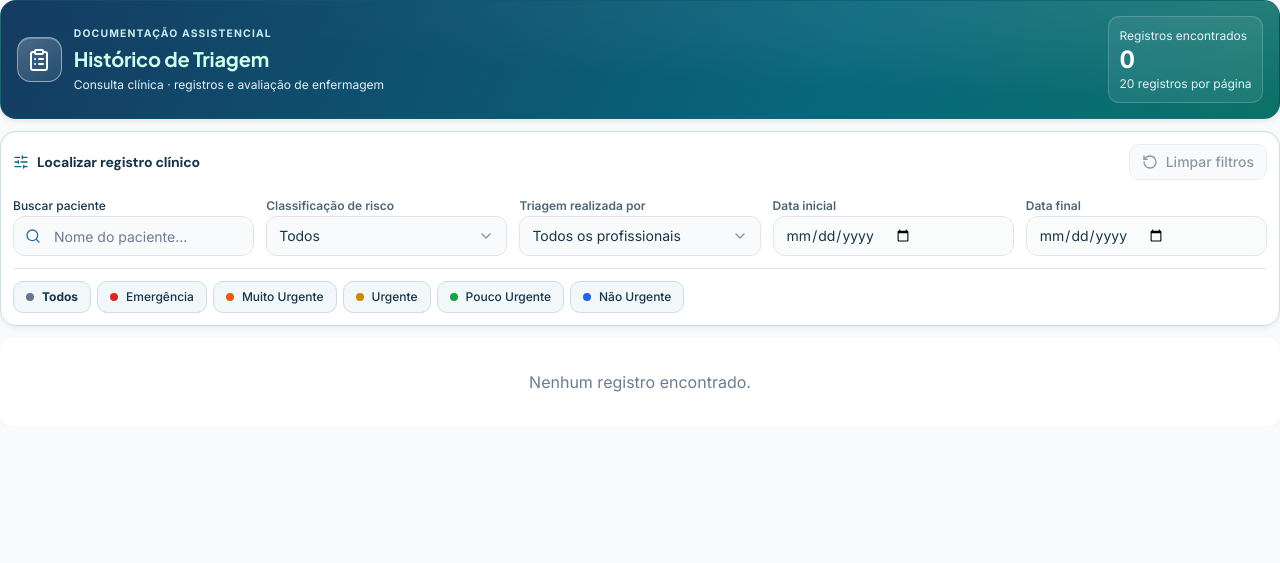
Test: Histórico de Triagem: carregamento, erro e vazio › encontra nomes independentemente de acentos e espaços extras
Check: the text "Nenhum registro encontrado." is shown, box [529,372,751,392]
Type "  joao da silva  " into the field with placeholder "Nome do paciente..." at {"x": 134, "y": 236}, box [13,216,254,256]
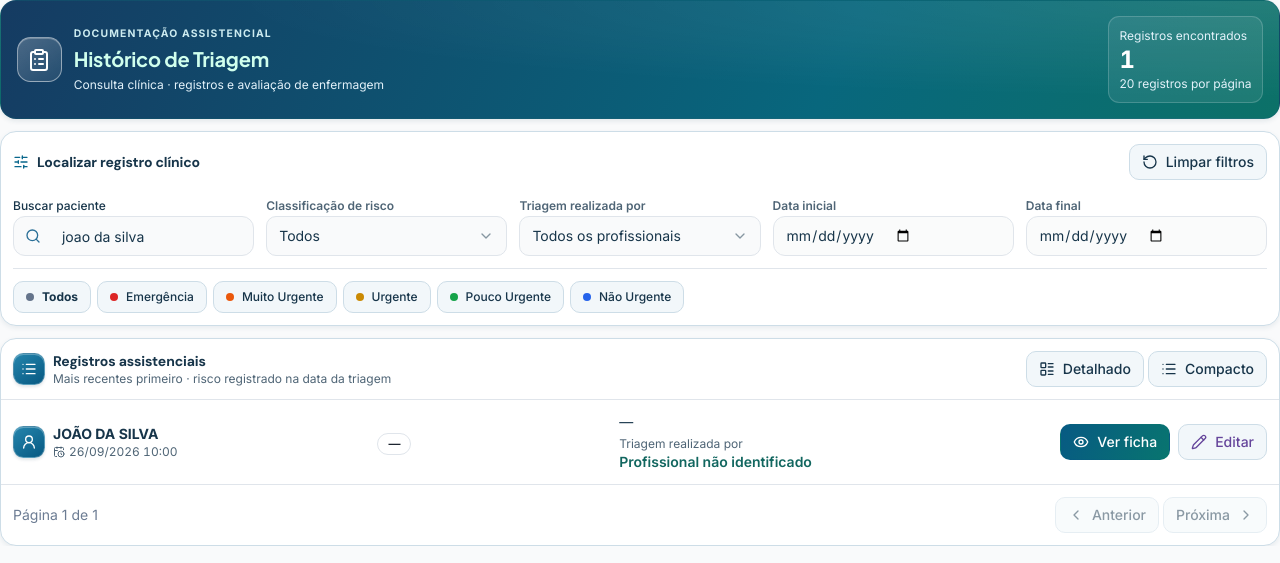
Check: the text "JOÃO DA SILVA" is shown, box [53,425,158,442]
